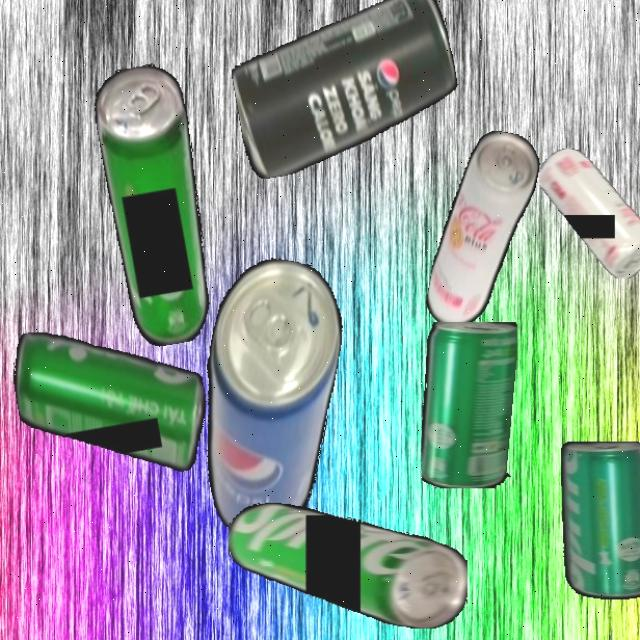debris: (180, 250, 353, 546), (223, 0, 468, 181), (6, 306, 217, 497), (88, 59, 225, 350), (228, 503, 468, 628), (424, 124, 543, 334), (422, 321, 517, 488), (539, 148, 640, 278), (560, 442, 640, 600)
